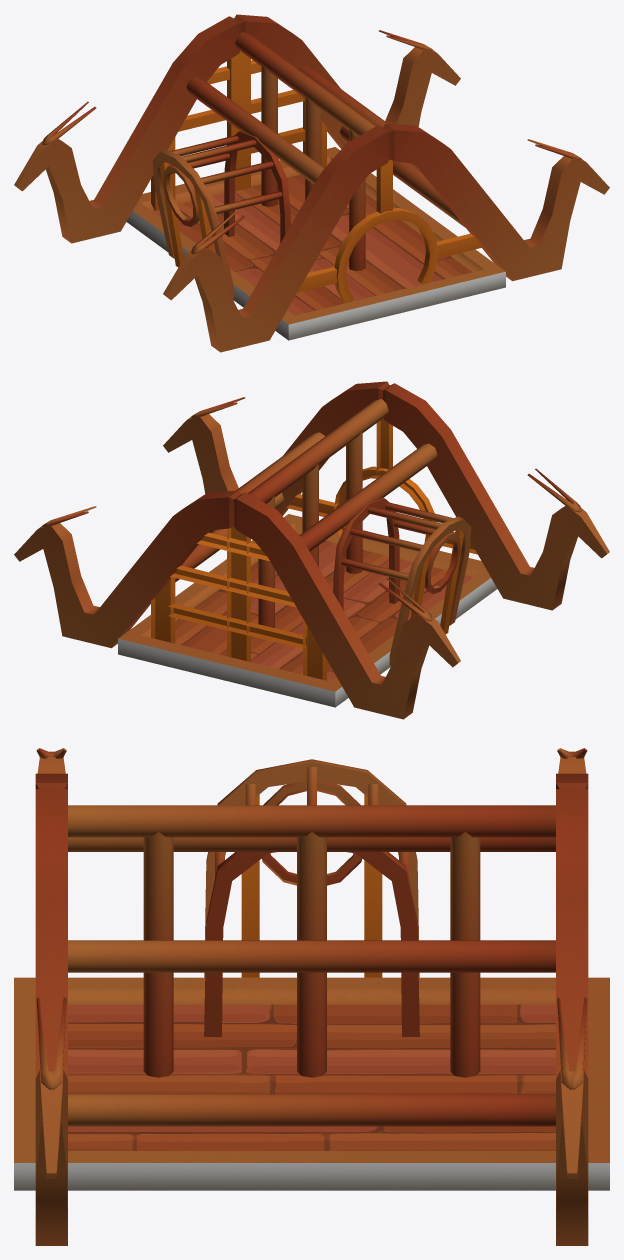
File: VikingHouse_04_XL.fbx
The picture shows the model from 3 angles, top to bottom: view 1: azimuth 30°, elevation 25°; view 2: azimuth 150°, elevation 25°; view 3: azimuth 270°, elevation 25°; orthographic projection. The views are drawn at different scales.
Parts seen in each view (by area): view 1: VikingHouse_04_XL; view 2: VikingHouse_04_XL; view 3: VikingHouse_04_XL.
Part boxes in pixels (left/top/right/bottom): VikingHouse_04_XL: left=14, top=14, right=609, bottom=352; VikingHouse_04_XL: left=14, top=381, right=609, bottom=719; VikingHouse_04_XL: left=14, top=748, right=609, bottom=1245.
Size of the model in its own units: 731 by 283 by 486.
